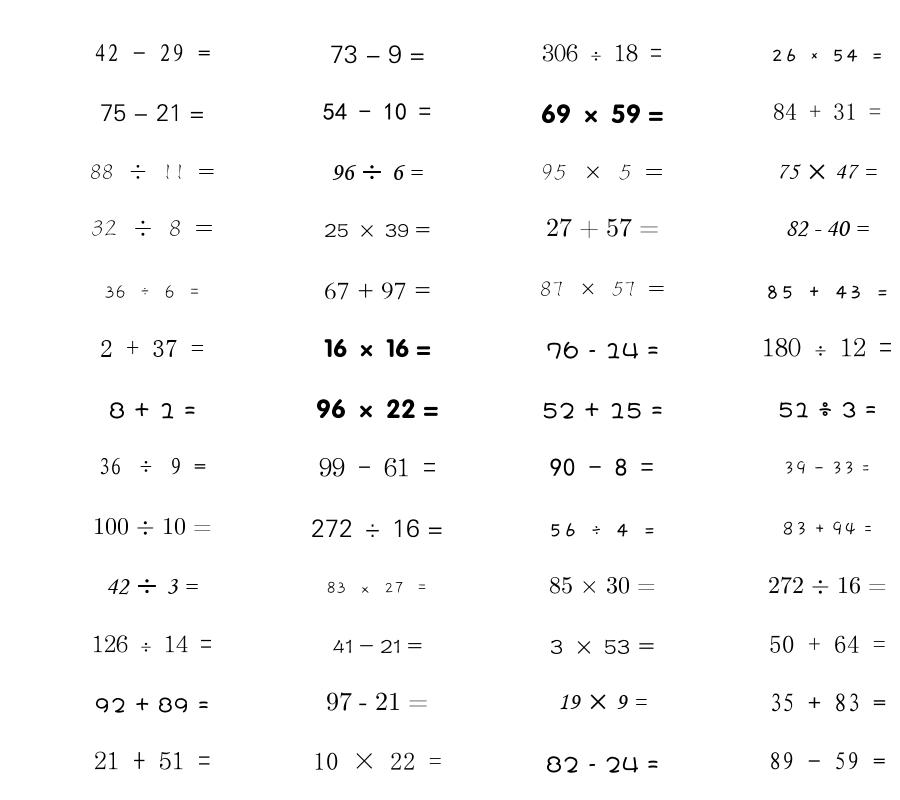MQ: (762, 337, 892, 357), (311, 519, 443, 538), (541, 104, 664, 124), (316, 399, 439, 419), (546, 218, 659, 239), (319, 457, 436, 477), (313, 752, 442, 770), (769, 693, 886, 712), (94, 751, 211, 770), (542, 44, 662, 62), (92, 635, 212, 653), (93, 517, 212, 535), (768, 576, 887, 594), (324, 338, 431, 358), (94, 44, 211, 62), (769, 635, 886, 653), (769, 752, 886, 770), (542, 402, 663, 419), (546, 341, 659, 359), (90, 164, 215, 180), (540, 281, 665, 297), (550, 458, 654, 477), (541, 164, 663, 180), (91, 220, 213, 236), (323, 103, 431, 121), (98, 457, 206, 475), (326, 692, 428, 711), (324, 282, 431, 300), (549, 576, 656, 594), (546, 756, 659, 773), (100, 104, 205, 122), (773, 103, 881, 120), (95, 697, 209, 713), (330, 45, 425, 64), (100, 340, 204, 357), (765, 285, 889, 299), (777, 164, 877, 180), (778, 402, 877, 418), (771, 48, 884, 62), (550, 639, 655, 654), (106, 578, 198, 595), (548, 523, 656, 537), (324, 223, 430, 237), (109, 402, 196, 419), (785, 220, 869, 237), (558, 694, 647, 710), (331, 165, 423, 180), (782, 521, 873, 536), (104, 285, 201, 299), (333, 639, 422, 654), (326, 581, 428, 594), (783, 461, 871, 475)
